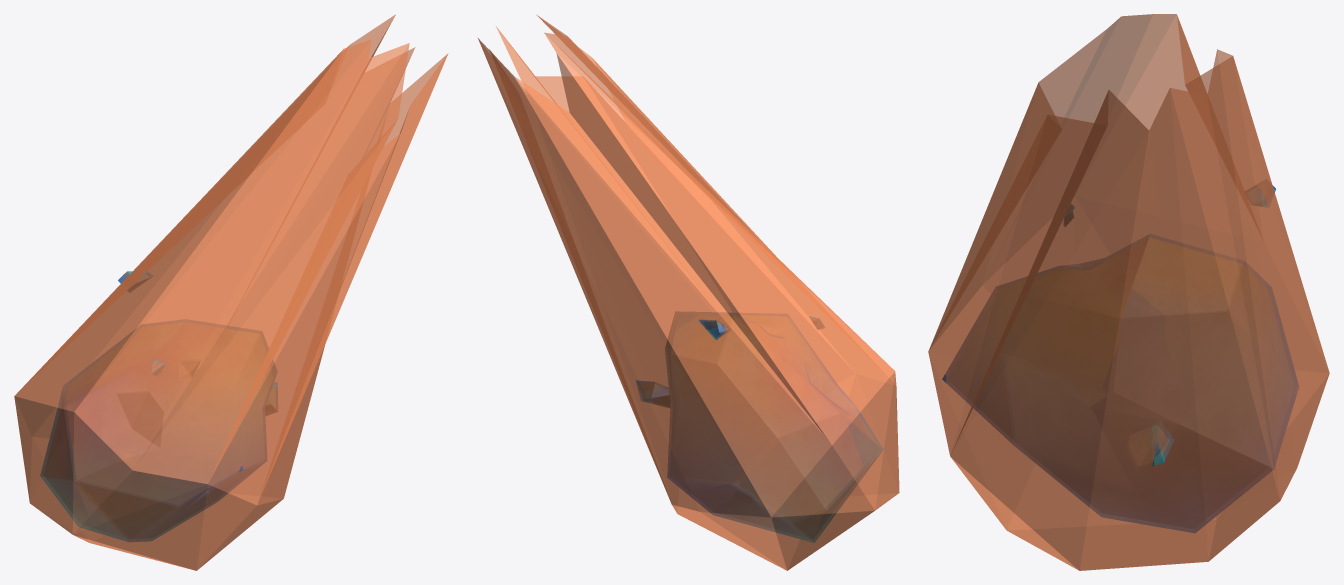
The model's file is Meteor.fbx.
3 views of the same model, side by side, from view 1: azimuth 30°, elevation 25°; view 2: azimuth 150°, elevation 25°; view 3: azimuth 270°, elevation 25° (orthographic). The views are drawn at different scales.
Parts seen in each view (by area): view 1: Plane, Icosphere, Cube.003; view 2: Plane, Icosphere, Cube.003; view 3: Plane, Icosphere, Cube.003.
Part boxes in pixels (bbox=[...]): Plane: bbox=[14, 14, 448, 570]; Icosphere: bbox=[40, 319, 277, 541]; Cube.003: bbox=[118, 271, 277, 415]; Plane: bbox=[478, 14, 899, 570]; Icosphere: bbox=[665, 311, 883, 542]; Cube.003: bbox=[636, 316, 824, 407]; Plane: bbox=[928, 14, 1329, 570]; Icosphere: bbox=[942, 234, 1298, 532]; Cube.003: bbox=[1063, 185, 1275, 470].
Size of the model in its own units: 1204 by 1321 by 681.
